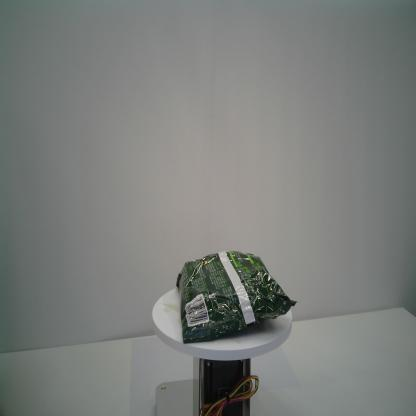Instant Noodles: (174, 248, 299, 345)
